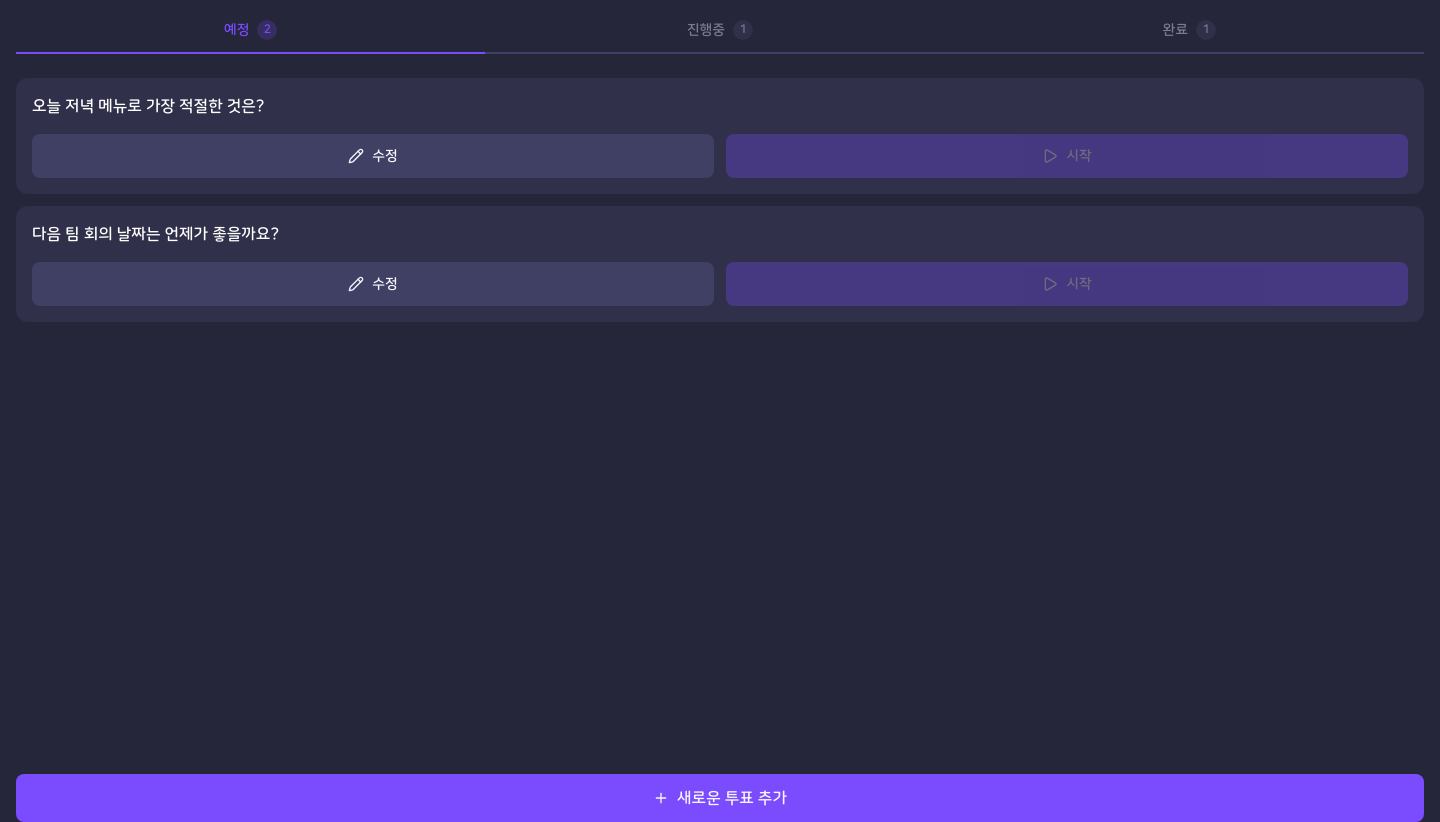
Scenario: PollManagementTabs › 완료 탭으로 이동하면 완료된 투표가 보인다
Click the tab "완료 1" at (1189, 32), box [955, 12, 1424, 52]
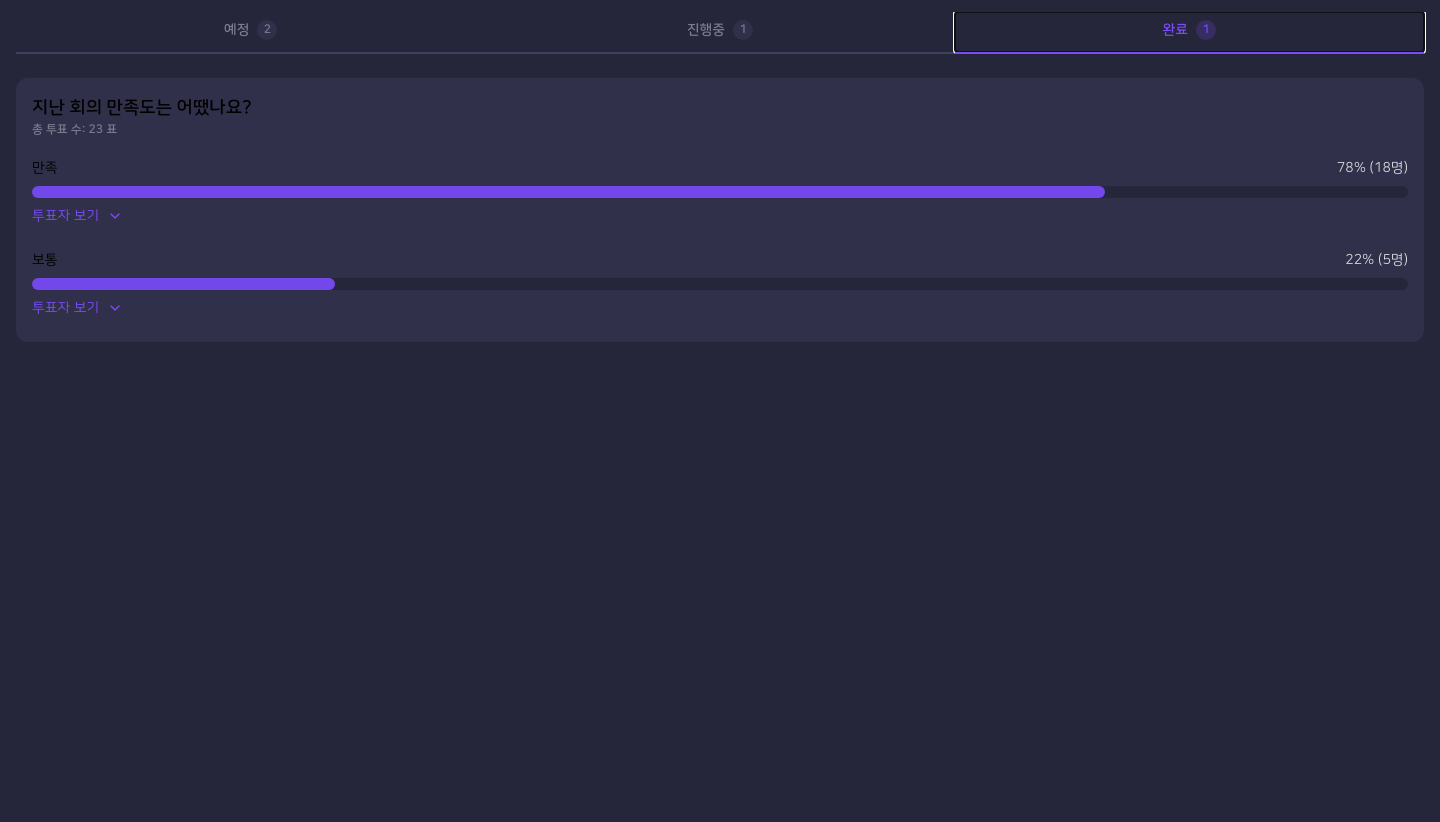
Result: the heading "지난 회의 만족도는 어땠나요?" is shown at [32, 98, 252, 118]
Result: the text "만족" is shown at [32, 158, 58, 178]
Result: the text "보통" is shown at [32, 250, 58, 270]
